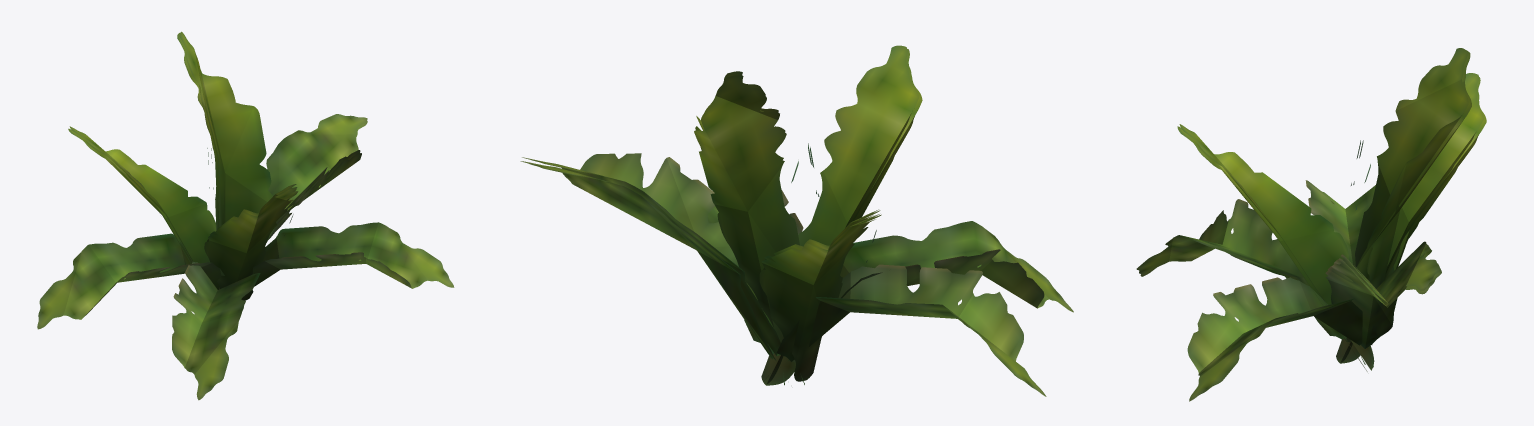
File: d_sd _zhiwu14_zw.FBX
3 views of the same model, side by side, from view 1: azimuth 30°, elevation 25°; view 2: azimuth 150°, elevation 25°; view 3: azimuth 270°, elevation 25° (orthographic). The views are drawn at different scales.
Parts seen in each view (by area): view 1: d_sd _zhiwu14_zw_01A; view 2: d_sd _zhiwu14_zw_01A; view 3: d_sd _zhiwu14_zw_01A.
Part boxes in pixels (x1,y1,x2,y2): d_sd _zhiwu14_zw_01A: (37,31,454,400); d_sd _zhiwu14_zw_01A: (520,45,1073,396); d_sd _zhiwu14_zw_01A: (1136,48,1486,401).
Bounding box in the file's own units: 41.6 × 29.69 × 31.84.
